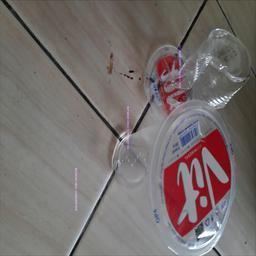plastic: (115, 29, 251, 256)
